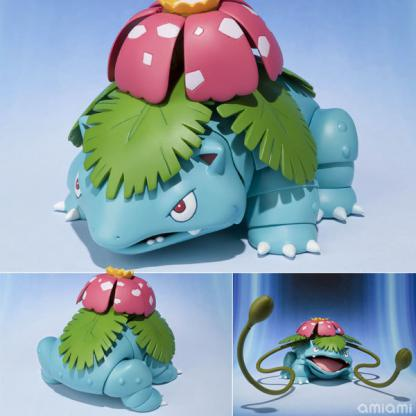Venusaur: (36, 18, 376, 252), (28, 268, 207, 416), (285, 303, 358, 398)
